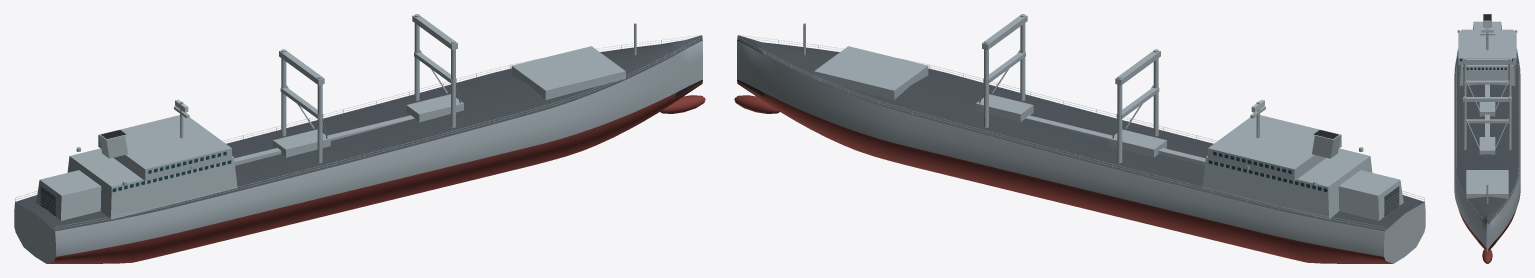
Rendered from pla_aor_type903a.glb.
The picture shows the model from 3 angles, left to right: view 1: azimuth 30°, elevation 25°; view 2: azimuth 150°, elevation 25°; view 3: azimuth 270°, elevation 25°; orthographic projection. The views are drawn at different scales.
Parts seen in each view (by area): view 1: naval_paint, flight_deck, antifouling, glazing; view 2: naval_paint, flight_deck, antifouling, glazing; view 3: naval_paint, flight_deck, antifouling, glazing, array_face, rubber.
Part boxes in pixels (x1,y1,x2,y2): naval_paint: (14, 14, 702, 263); flight_deck: (15, 35, 702, 231); antifouling: (47, 81, 705, 263); glazing: (112, 151, 231, 192); naval_paint: (737, 14, 1425, 263); flight_deck: (737, 35, 1424, 231); antifouling: (734, 81, 1392, 263); glazing: (1208, 151, 1327, 192); naval_paint: (1454, 14, 1520, 251); flight_deck: (1455, 53, 1519, 224); antifouling: (1458, 209, 1516, 263); glazing: (1460, 31, 1513, 69); array_face: (1481, 28, 1493, 32); rubber: (1483, 14, 1491, 20).
Size of the model in its own units: 10 by 2.13 by 1.38.
